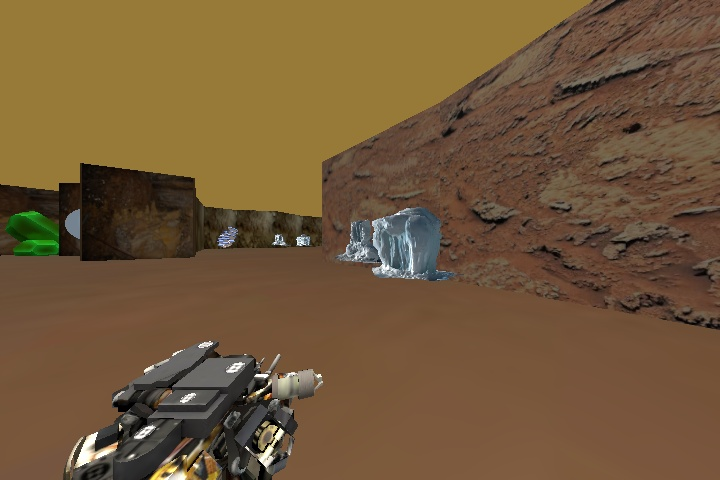gem: (2, 209, 58, 259)
minerals: (336, 211, 448, 278), (270, 232, 286, 246), (297, 232, 309, 246)
mushroom: (215, 226, 239, 248)
sphere: (66, 208, 81, 238)
